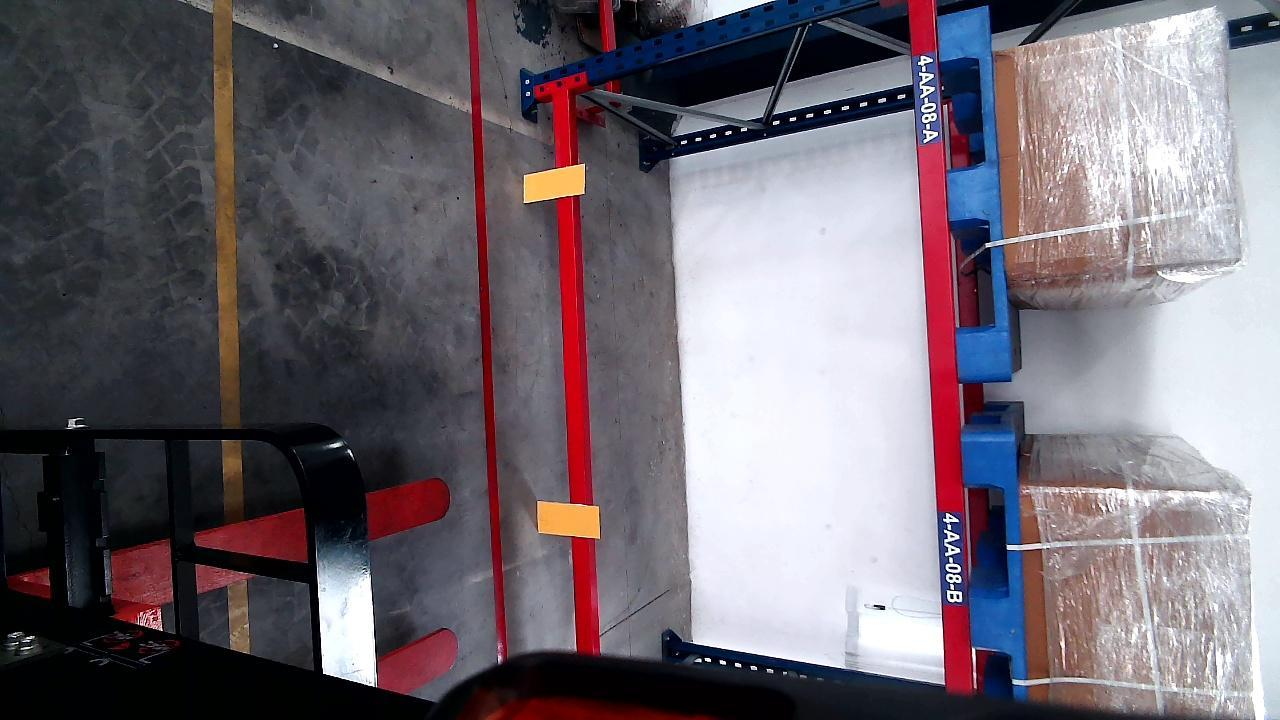red_line: (465, 2, 506, 668)
yellow_line: (214, 3, 248, 653)
